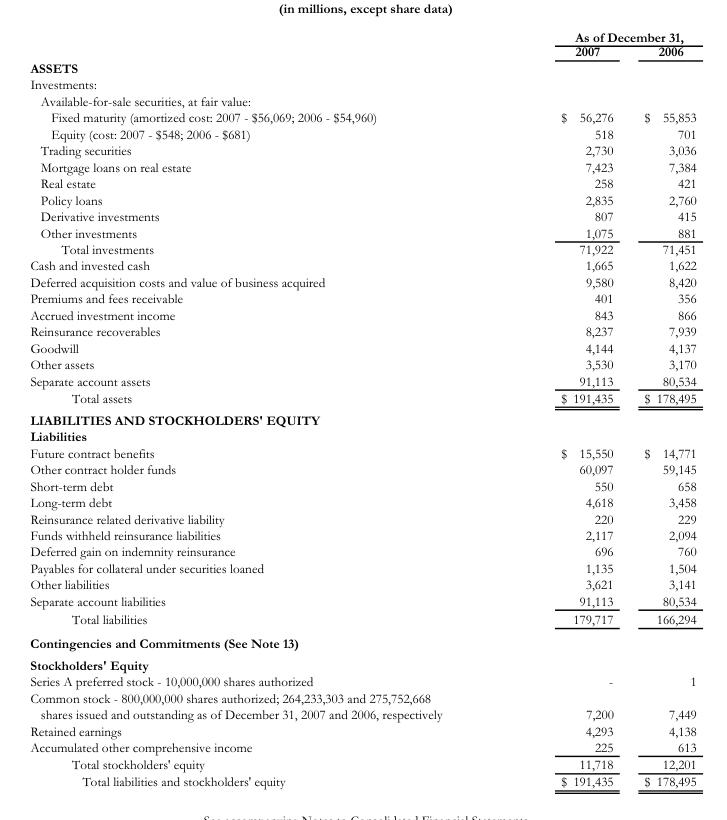table: (29, 29, 695, 788)
table column: (29, 29, 500, 788), (500, 29, 628, 788), (628, 29, 695, 788)
table column header: (29, 29, 695, 59)
table projected row header: (29, 630, 695, 653), (29, 408, 695, 428), (29, 653, 695, 672), (29, 59, 695, 76), (29, 92, 695, 109), (29, 76, 695, 92), (29, 428, 695, 444)
table row: (29, 689, 695, 722), (29, 630, 695, 653), (29, 609, 695, 630), (29, 408, 695, 428), (29, 389, 695, 408), (29, 653, 695, 672), (29, 59, 695, 76), (29, 92, 695, 109), (29, 125, 695, 142), (29, 174, 695, 191), (29, 207, 695, 224), (29, 240, 695, 257), (29, 273, 695, 290), (29, 306, 695, 323), (29, 355, 695, 372), (29, 372, 695, 389), (29, 460, 695, 477), (29, 493, 695, 510), (29, 526, 695, 543), (29, 559, 695, 576), (29, 592, 695, 609), (29, 672, 695, 689), (29, 738, 695, 755), (29, 755, 695, 772), (29, 76, 695, 92), (29, 109, 695, 125), (29, 142, 695, 158), (29, 158, 695, 174), (29, 191, 695, 207), (29, 224, 695, 240), (29, 257, 695, 273), (29, 290, 695, 306), (29, 323, 695, 339), (29, 339, 695, 355), (29, 428, 695, 444), (29, 444, 695, 460), (29, 477, 695, 493), (29, 510, 695, 526), (29, 543, 695, 559), (29, 576, 695, 592), (29, 722, 695, 738), (29, 772, 695, 788), (29, 29, 695, 44), (29, 44, 695, 59)
table spanning cell: (500, 29, 695, 44)
